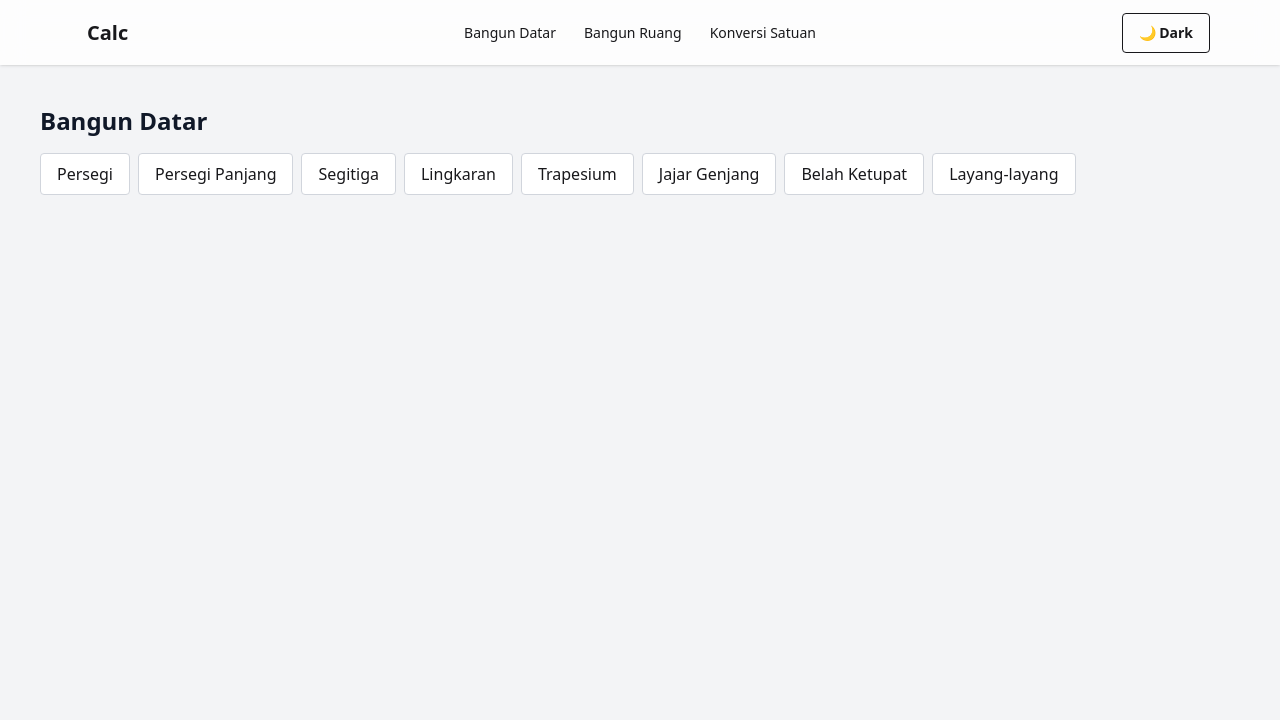
Scenario: App › validates 3D input
Click the button "Bangun Ruang" at (633, 32), box [572,16,694,49]
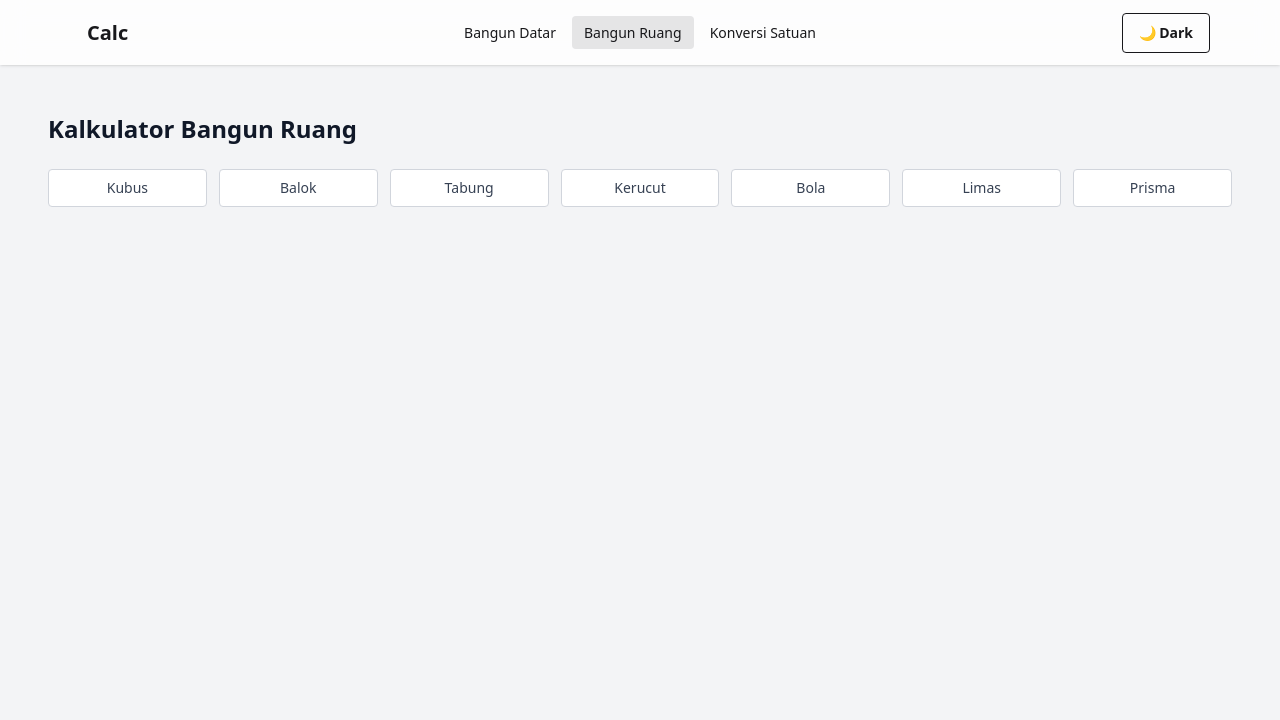
Click the button "Kubus" at (127, 188), box [48,169,207,207]
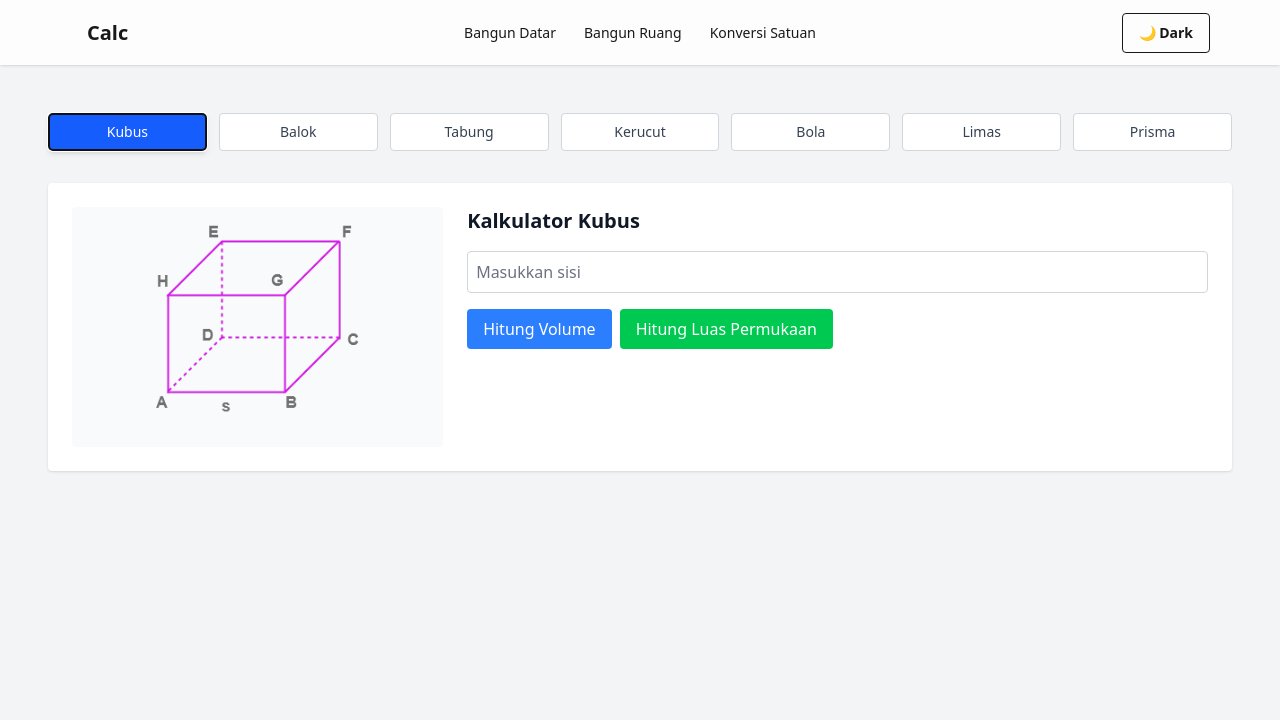
Click the button "Hitung Volume" at (539, 329), box [467,309,612,349]
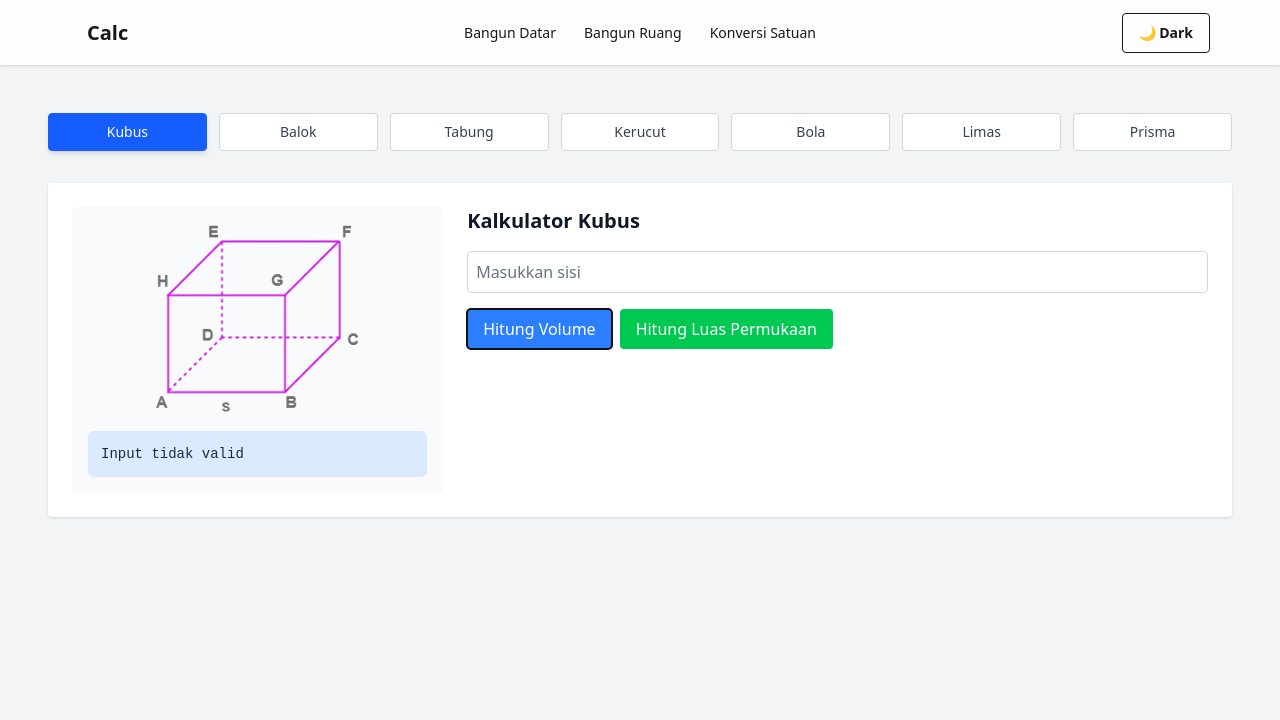
Expected: the text "Input tidak valid" is shown, [101,446,244,462]
